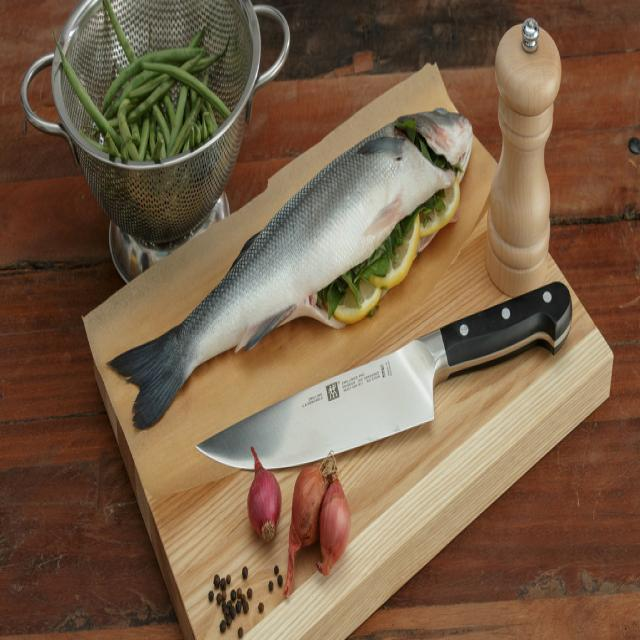Knife: (198, 282, 571, 469)
